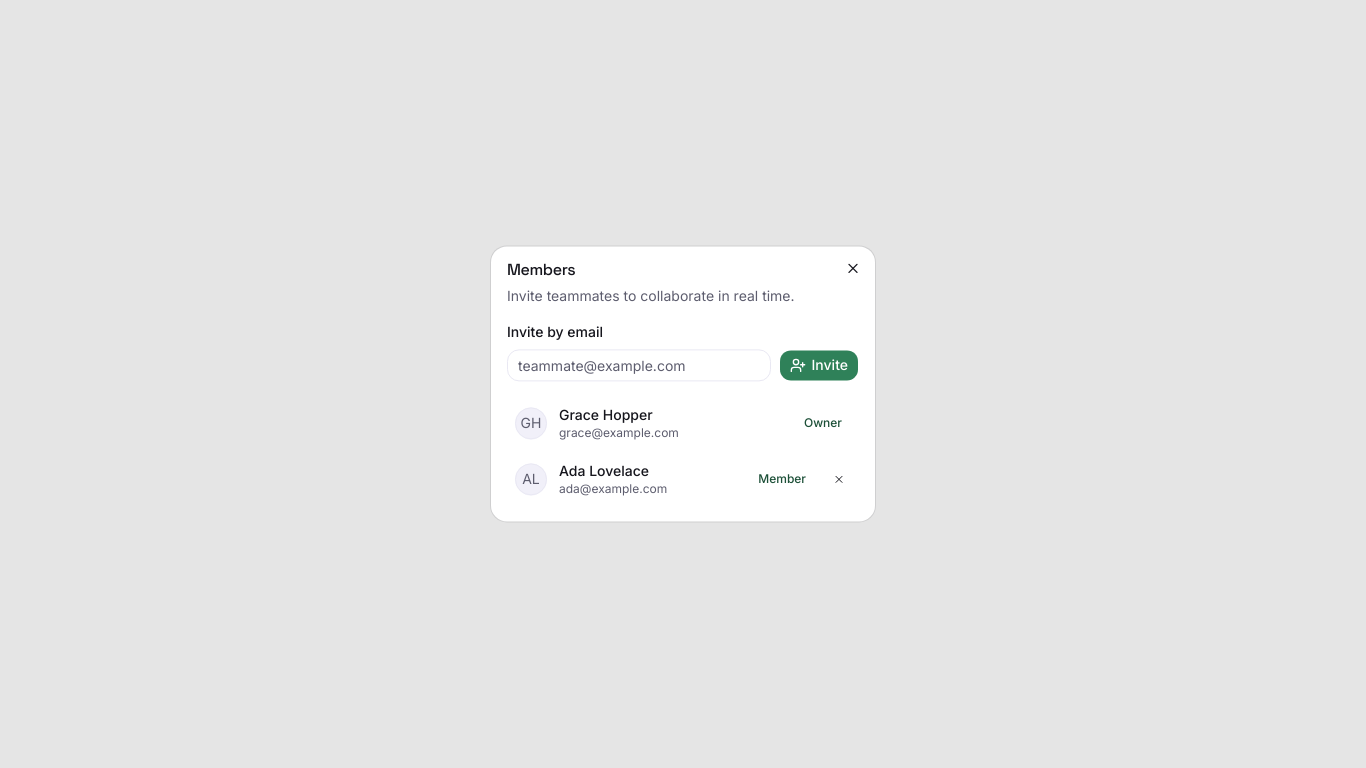
it: MembersDialog › invites by email, says who was added and clears the field
In the field labelled "Invite by email": (639, 366) x1=507 y1=350 x2=770 y2=382, type "  alan@example.com "
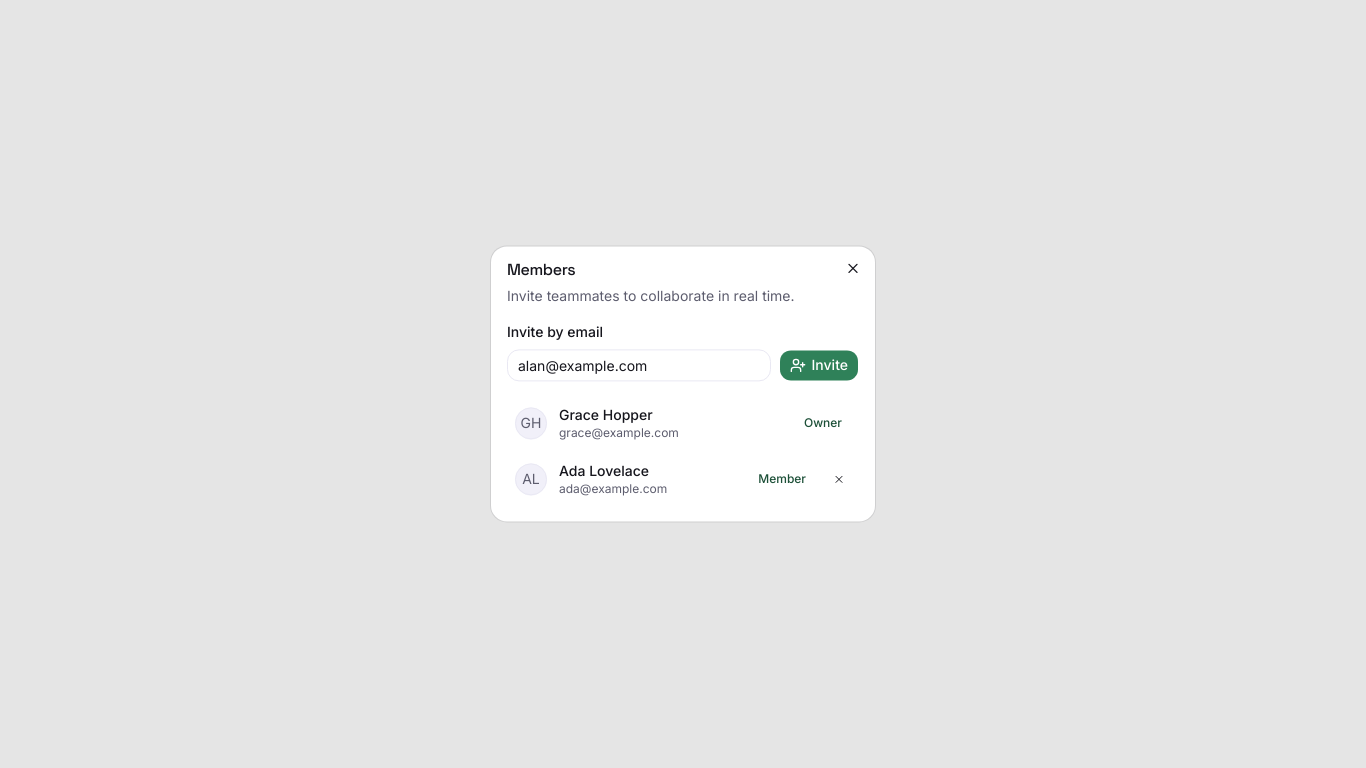
Click the button "Invite": click(819, 366) x1=778 y1=350 x2=859 y2=382
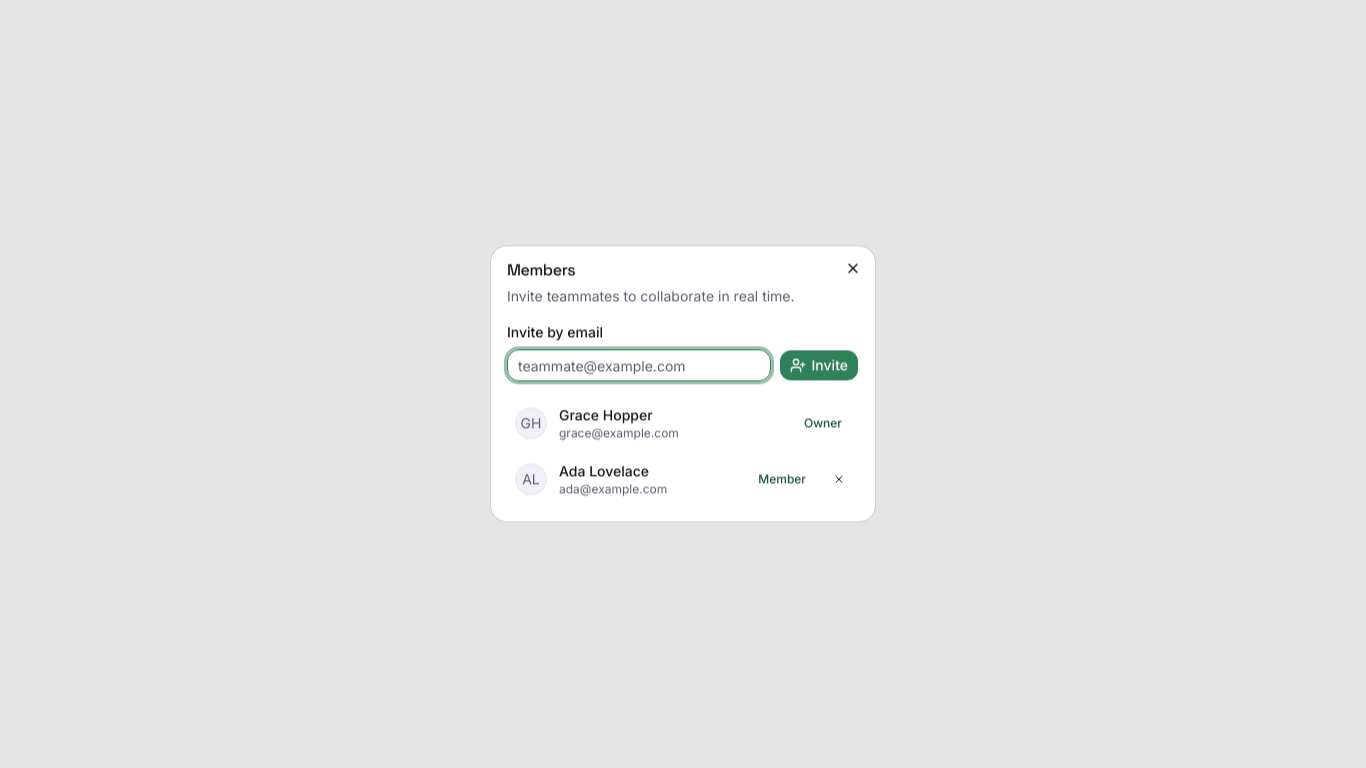
Expected: the field labelled "Invite by email" is empty, x1=507 y1=350 x2=770 y2=382
